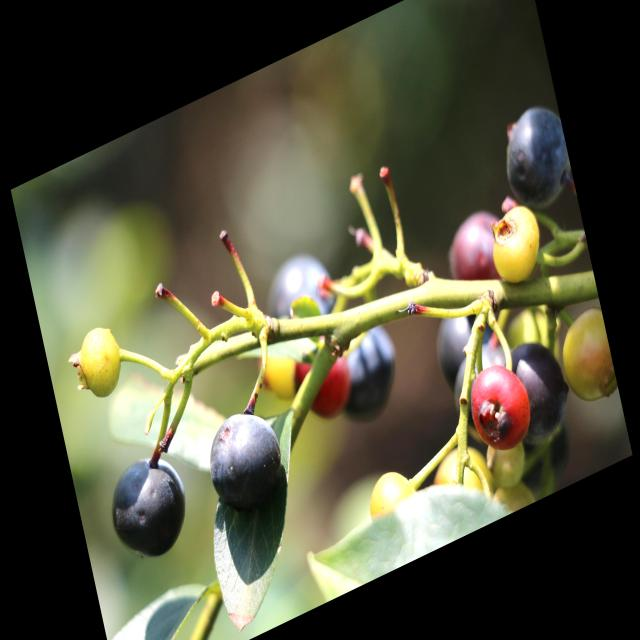blueberry: (196, 386, 296, 535), (259, 226, 356, 360), (102, 441, 196, 573), (318, 305, 406, 443), (492, 90, 576, 222), (502, 316, 581, 456), (424, 276, 504, 394)
blueberry-halfripe: (465, 352, 536, 464), (443, 202, 513, 303), (288, 332, 356, 430)
blueberry-unripe: (555, 304, 619, 413), (486, 200, 548, 296), (70, 317, 129, 409), (364, 462, 422, 536)
